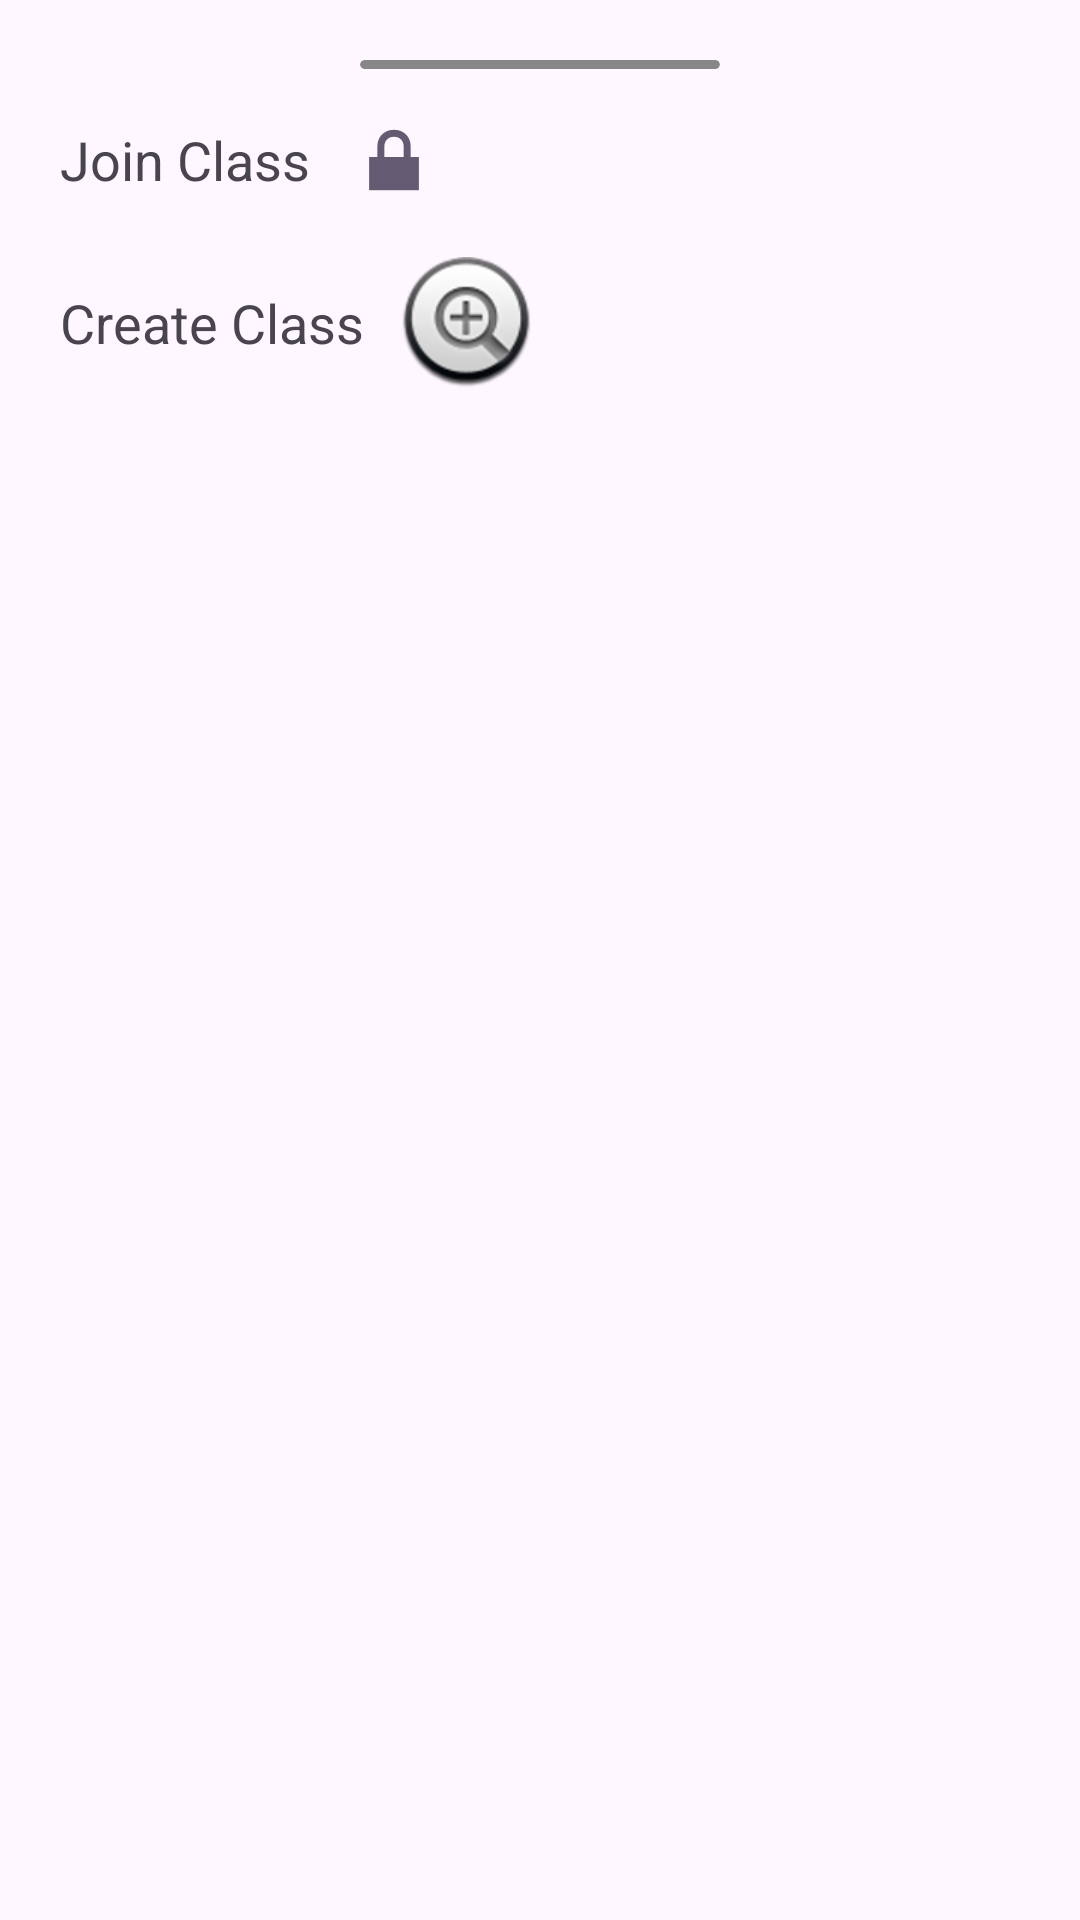

Named icons in this screenshot (1080 x 1920) and their centers, point (x, y):
lock: point (394, 160)
plus: point (466, 321)
